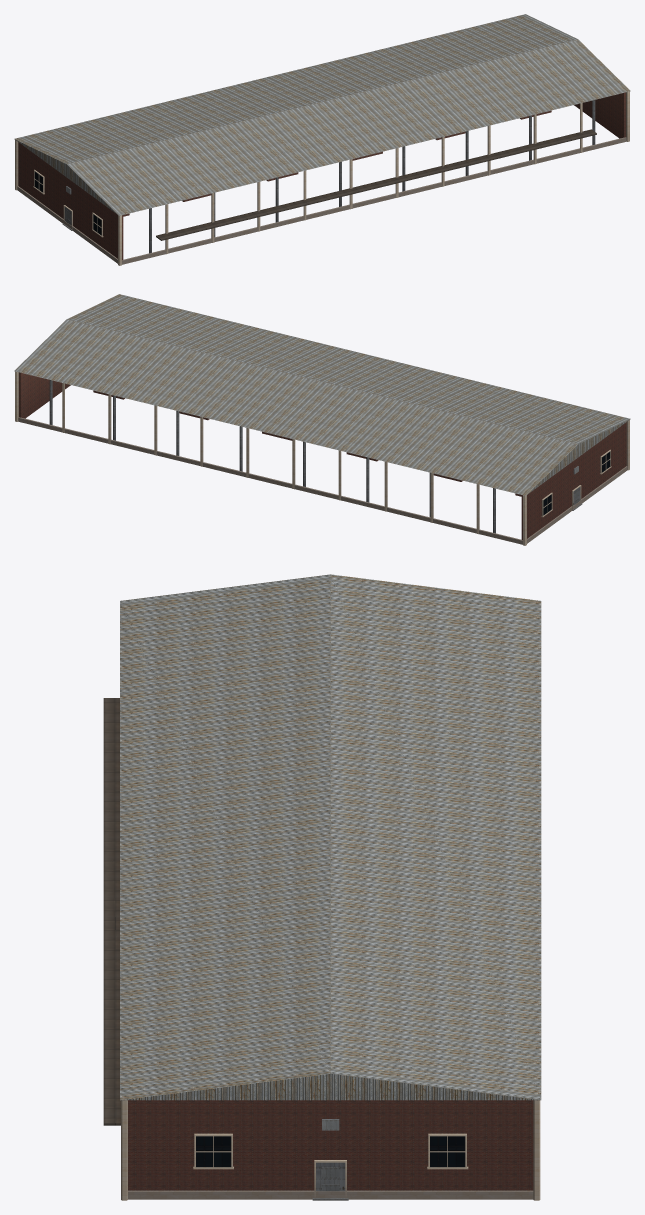
File: market-hall-b_lod0.gltf
3 renders of one model, top to bottom at view 1: azimuth 30°, elevation 25°; view 2: azimuth 150°, elevation 25°; view 3: azimuth 270°, elevation 25°, orthographic. The views are drawn at different scales.
Visible parts, largest first — view 1: market-hall-b_roof, market-hall-b__v4_stone_detail, market-hall-b_endwalls, market-hall-b__v4_metal_detail, market-hall-b_columns, market-hall-b__stalls; view 2: market-hall-b_roof, market-hall-b__v4_stone_detail, market-hall-b_endwalls, market-hall-b_columns, market-hall-b__stalls; view 3: market-hall-b_roof, market-hall-b_endwalls, market-hall-b__v4_metal_detail, market-hall-b__v4_stone_detail, market-hall-b_fen_07-glass-curtain-blue_5_t, market-hall-b_fen_04-limestone_0.
Part boxes in pixels (x1,y1,x2,y2): market-hall-b_roof: [14, 14, 630, 215]; market-hall-b__v4_stone_detail: [15, 91, 629, 265]; market-hall-b_endwalls: [18, 92, 625, 260]; market-hall-b__v4_metal_detail: [156, 129, 596, 240]; market-hall-b_columns: [149, 100, 595, 253]; market-hall-b__stalls: [123, 110, 551, 216]; market-hall-b_roof: [14, 294, 630, 495]; market-hall-b__v4_stone_detail: [15, 371, 629, 545]; market-hall-b_endwalls: [19, 372, 626, 540]; market-hall-b_columns: [49, 380, 495, 533]; market-hall-b__stalls: [93, 390, 521, 496]; market-hall-b_roof: [120, 574, 541, 1100]; market-hall-b_endwalls: [128, 1100, 533, 1190]; market-hall-b__v4_metal_detail: [103, 698, 120, 1125]; market-hall-b__v4_stone_detail: [121, 1100, 540, 1200]; market-hall-b_fen_07-glass-curtain-blue_5_t: [196, 1136, 465, 1167]; market-hall-b_fen_04-limestone_0: [193, 1133, 468, 1198].
Size of the model in its own units: 101 by 12.02 by 37.4.
